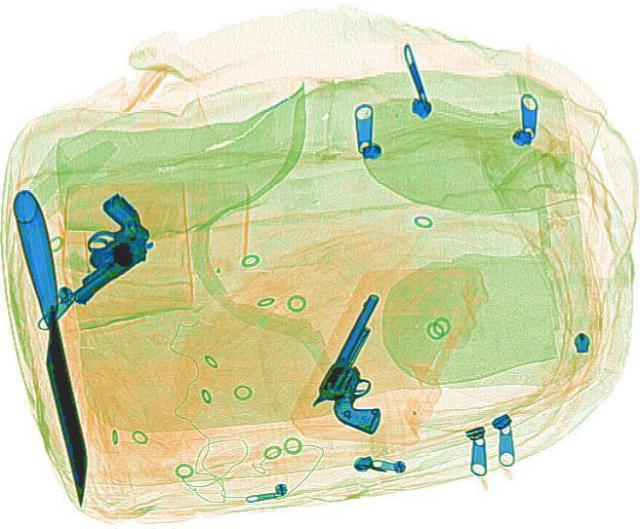Gun: (299, 290, 441, 435), (22, 191, 176, 302)
Knife: (6, 185, 104, 506)
